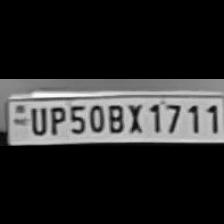0: (87, 101, 105, 131)
1: (200, 100, 222, 132), (182, 100, 202, 132), (145, 99, 163, 133)
5: (66, 101, 86, 133)
7: (160, 100, 182, 132)
B: (105, 100, 125, 132)
P: (46, 102, 66, 134)
U: (26, 102, 46, 134)
X: (125, 100, 145, 132)
